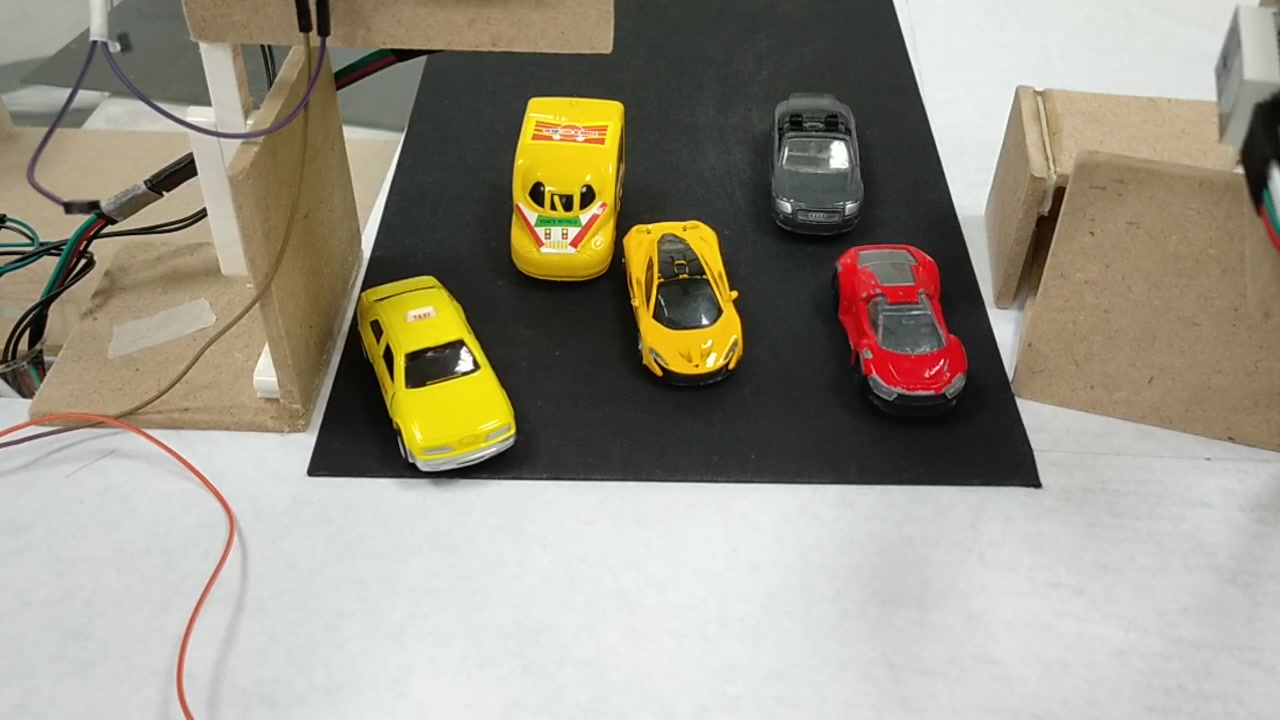car: (353, 284, 516, 471), (830, 240, 969, 415), (624, 223, 747, 385), (768, 93, 866, 236)
